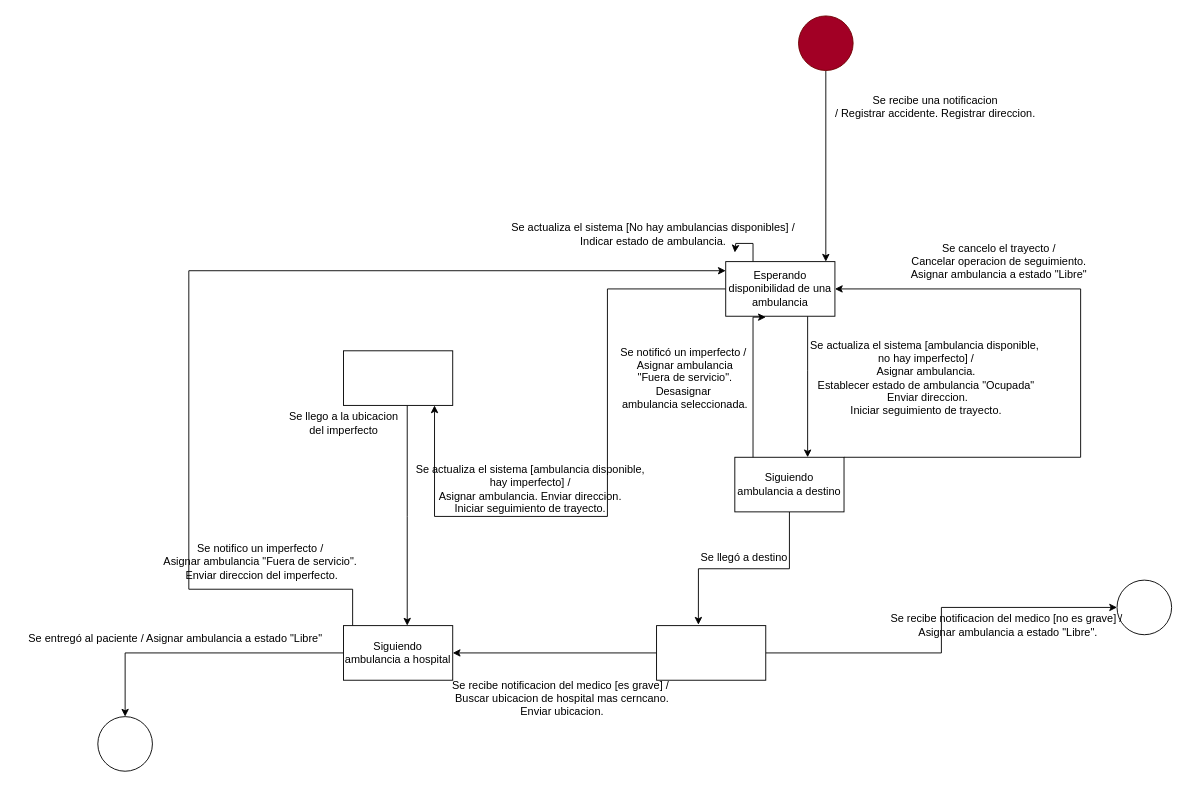
Image size: 1188x787. Some labels were removed from this diagram. The centre of each missing label's shape, as x and y in pixels:
Esperando confirmacion de gravedad: the point at 711,652
Siguiendo ambulancia hacia el imperfecto: the point at 398,377
